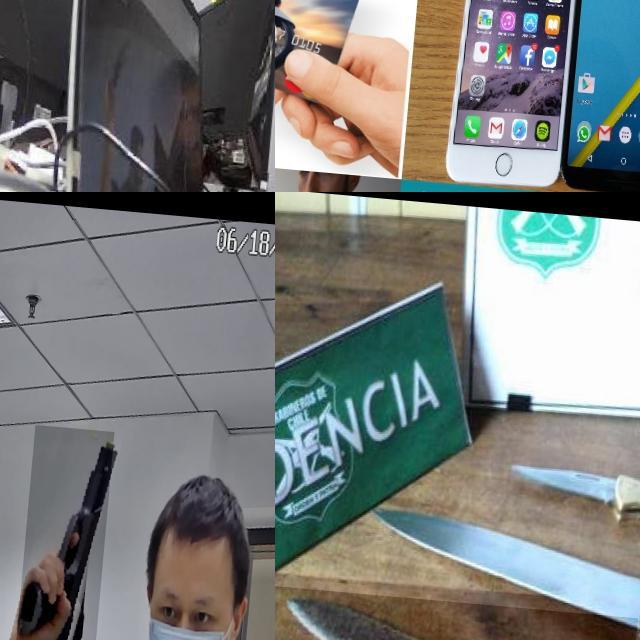-: (364, 495, 640, 640), (275, 584, 640, 640), (506, 445, 637, 516)
gun-knife-thesis - v11 Yolov5 augmented: (23, 420, 118, 640)
